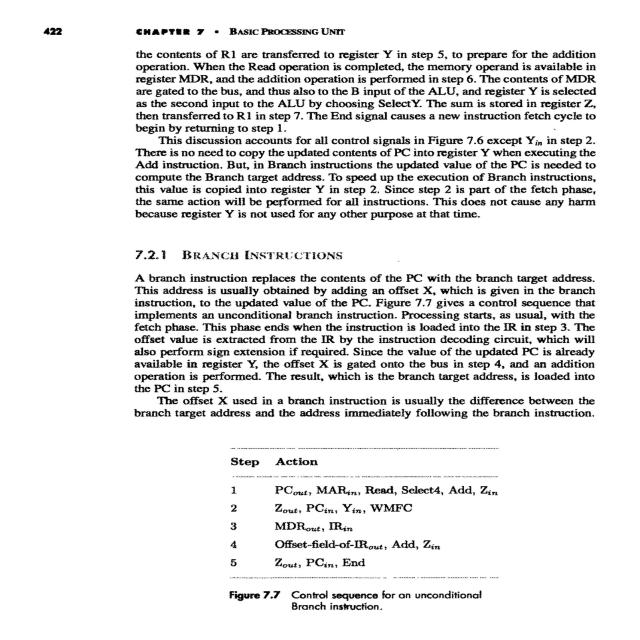diagram: (174, 447, 574, 640)
